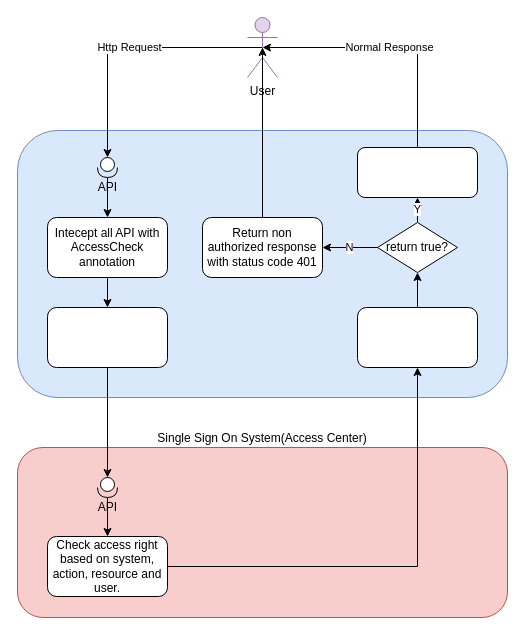
Some shapes in this 525 by 635 pixel diagram are drawn without their labels. The box of each missing label's shape, as (x1, y1, x2, y2) in pixels:
Business System: (16, 130, 508, 398)
Check the return result: (356, 306, 478, 368)
Collection access check information from annotation: (46, 306, 168, 368)
process business logic: (356, 146, 478, 198)
